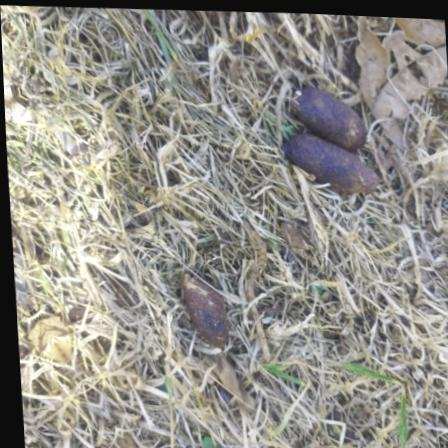dog-poop: (275, 76, 384, 202), (165, 274, 237, 350)
